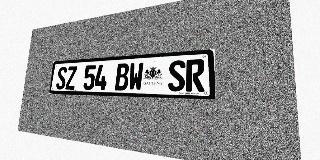4: (94, 64, 108, 90)
5: (83, 65, 96, 90)
B: (115, 63, 129, 91)
R: (186, 59, 204, 92)
S: (168, 60, 186, 91), (56, 66, 67, 89)
W: (128, 62, 144, 91)
Z: (65, 66, 77, 90)
